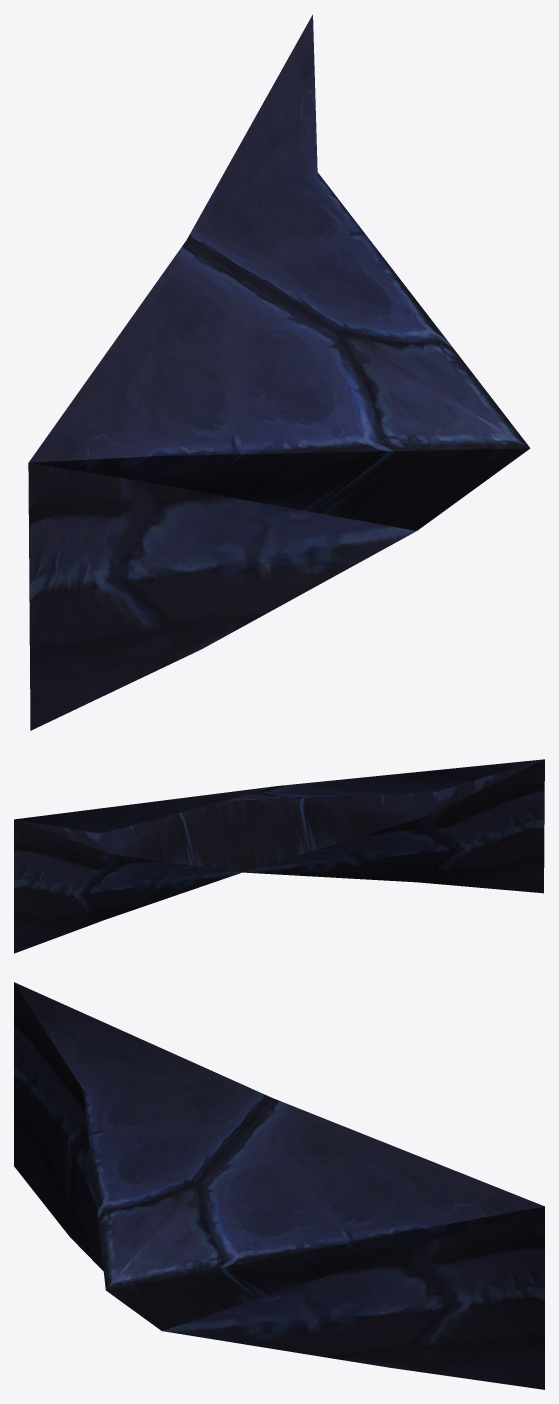
File: palace_quarter_diagonal_01.fbx
3 views of the same model, one above another, from view 1: azimuth 30°, elevation 25°; view 2: azimuth 150°, elevation 25°; view 3: azimuth 270°, elevation 25° (orthographic). The views are drawn at different scales.
Parts seen in each view (by area): view 1: palace_tileset/palace_wall_straight01_mat; view 2: palace_tileset/palace_wall_straight01_mat; view 3: palace_tileset/palace_wall_straight01_mat.
Boxes of the visible parts, bbox=[...] form: palace_tileset/palace_wall_straight01_mat: bbox=[28, 14, 530, 730]; palace_tileset/palace_wall_straight01_mat: bbox=[14, 759, 544, 953]; palace_tileset/palace_wall_straight01_mat: bbox=[14, 982, 544, 1389].
Bounding box in the file's own units: 3.61 × 1.37 × 3.61.
